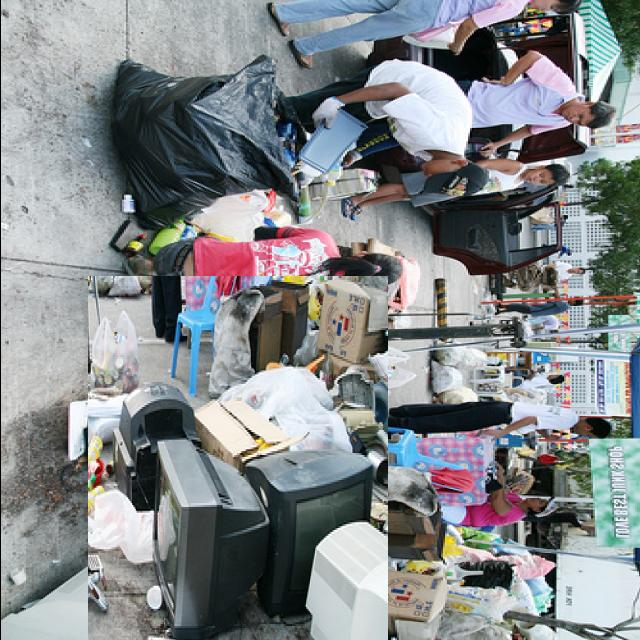garbage: (55, 308, 419, 640), (77, 58, 322, 220)
